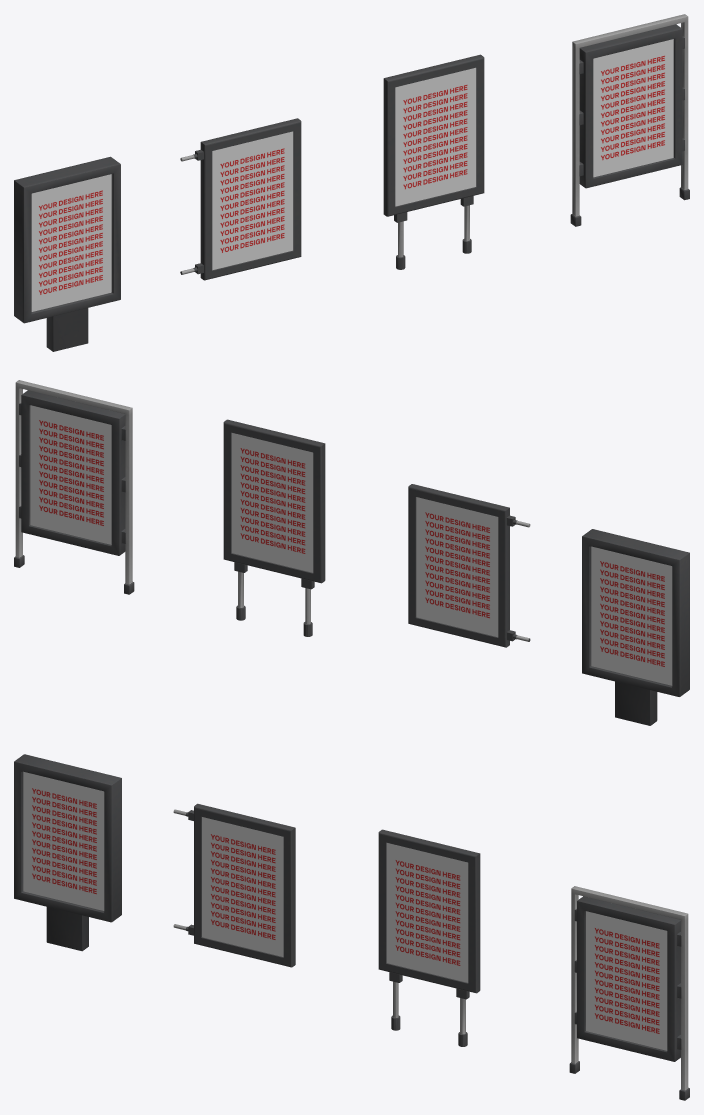
3 views of the same model, one above another, from view 1: azimuth 30°, elevation 25°; view 2: azimuth 150°, elevation 25°; view 3: azimuth 330°, elevation 25° (orthographic).
Parts seen in each view (by area): view 1: your_design.001, your_design.002, glass.001, glass.002, your_design.003, glass, your_design, glass.003, frame.003, frame, frame.002, frame.001; view 2: your_design.001, your_design.002, your_design.003, glass.002, glass.001, glass, your_design, glass.003, frame.003, frame, frame.002, frame.001; view 3: your_design.002, your_design.001, your_design.003, glass.002, glass.001, glass, your_design, glass.003, frame.003, frame, frame.002, frame.001.
Part boxes in pixels (x1,y1,x2,y2): your_design.001: (212, 131, 293, 270); your_design.002: (395, 67, 476, 206); glass.001: (395, 68, 476, 206); glass.002: (212, 132, 293, 269); your_design.003: (593, 39, 673, 177); glass: (32, 174, 112, 312); your_design: (31, 174, 111, 311); glass.003: (594, 39, 673, 177); frame.003: (570, 14, 689, 226); frame: (14, 156, 120, 351); frame.002: (383, 54, 484, 269); frame.001: (180, 118, 301, 280); your_design.001: (416, 497, 498, 637); your_design.002: (231, 433, 313, 572); your_design.003: (30, 405, 111, 544); glass.002: (416, 497, 497, 637); glass.001: (231, 433, 312, 572); glass: (590, 547, 671, 686); your_design: (591, 546, 672, 685); glass.003: (30, 405, 110, 544); frame.003: (14, 380, 134, 594); frame: (582, 529, 689, 725); frame.002: (223, 419, 325, 636); frame.001: (408, 484, 530, 647); your_design.002: (386, 843, 468, 982); your_design.001: (202, 817, 283, 956); your_design.003: (586, 911, 667, 1050); glass.002: (202, 817, 283, 956); glass.001: (386, 843, 467, 982); glass: (22, 772, 103, 911); your_design: (23, 771, 104, 910); glass.003: (586, 911, 666, 1050); frame.003: (569, 886, 689, 1100); frame: (14, 754, 121, 951); frame.002: (378, 829, 480, 1046); frame.001: (173, 803, 295, 967).
Bounding box in the file's own units: 9.53 × 2.63 × 0.308.
10 materials, 10 textured.
